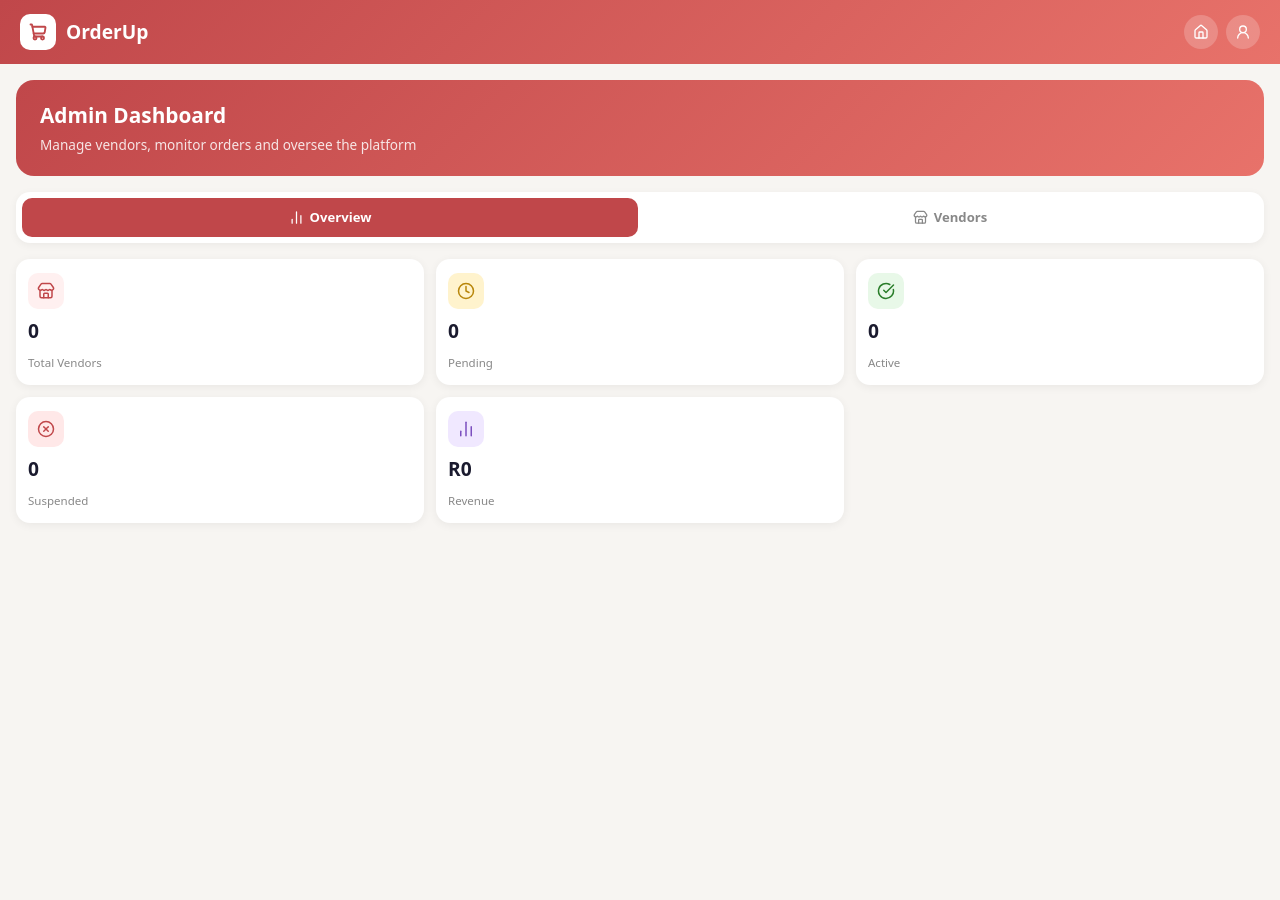
AdminDashboard › filters vendors by owner name in search
expect the text "Total Vendors" is shown: met, box [28, 355, 102, 370]
Click the button "Vendors": (950, 217) [642, 198, 1258, 237]
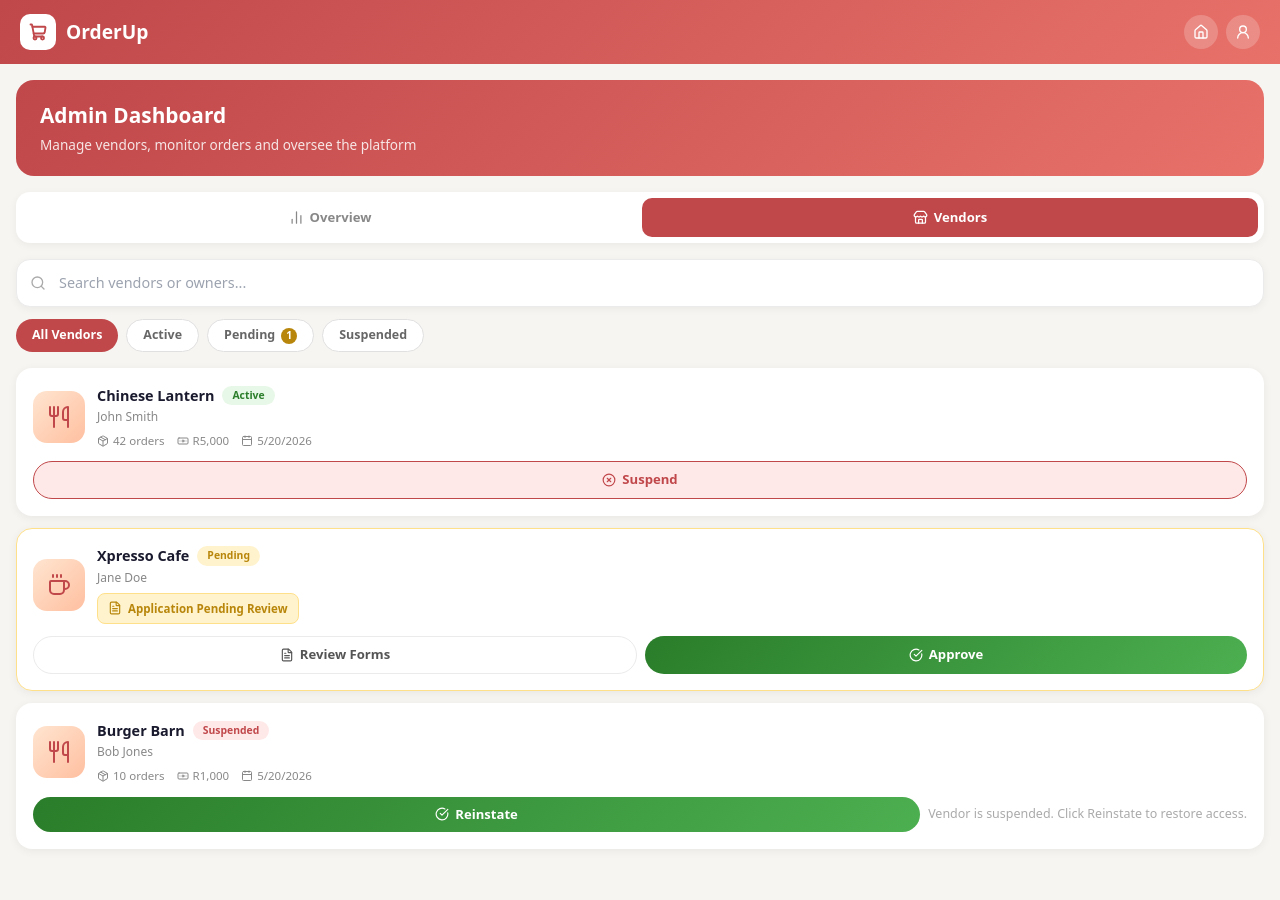
expect the heading "Chinese Lantern" is shown: met, box [97, 385, 214, 406]
In the field with placeholder "Search vendors or owners...": (640, 283) [16, 259, 1264, 307], type "Jane"
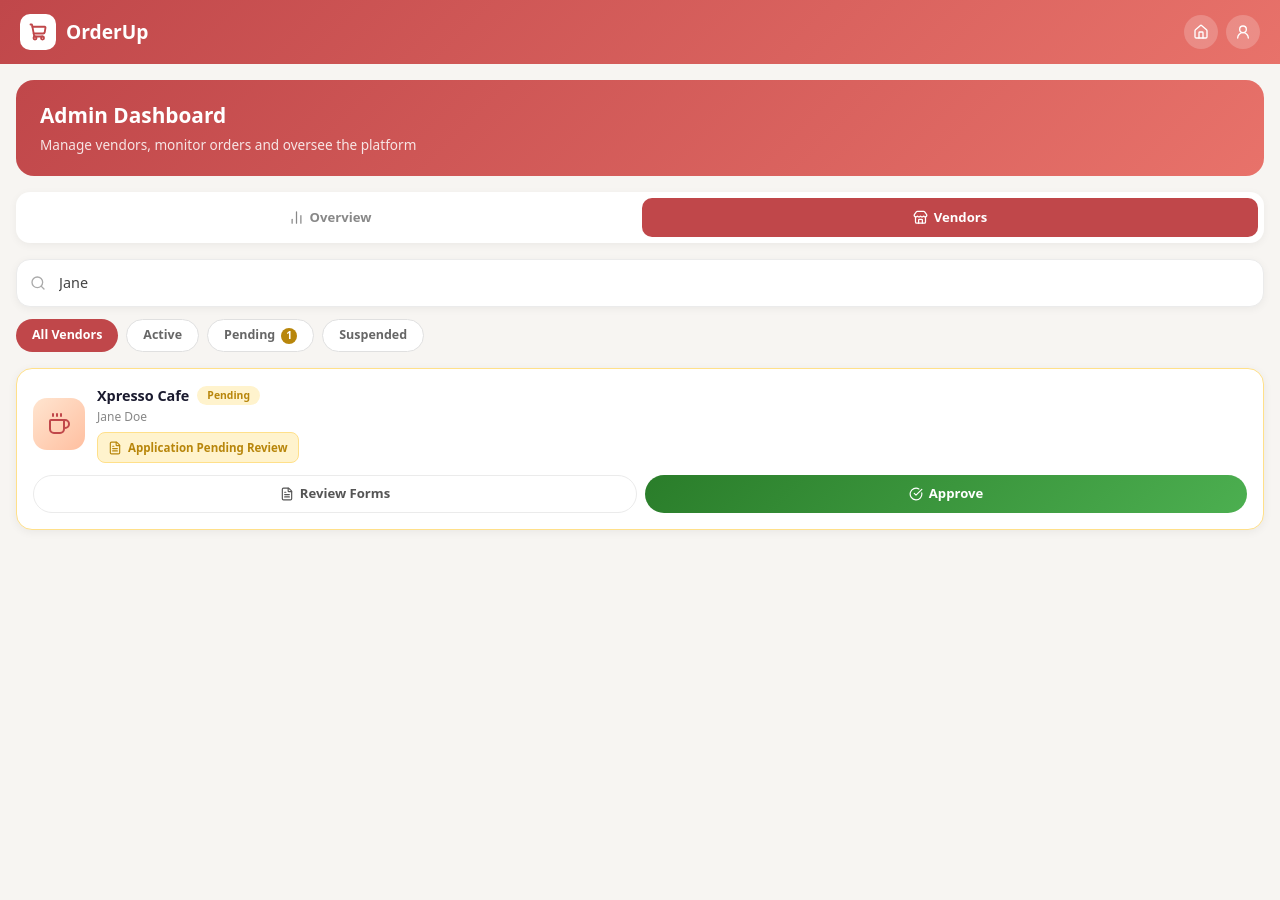
expect the heading "Xpresso Cafe" is shown: met, box [97, 385, 189, 406]
expect the heading "Chinese Lantern" is gone: met
